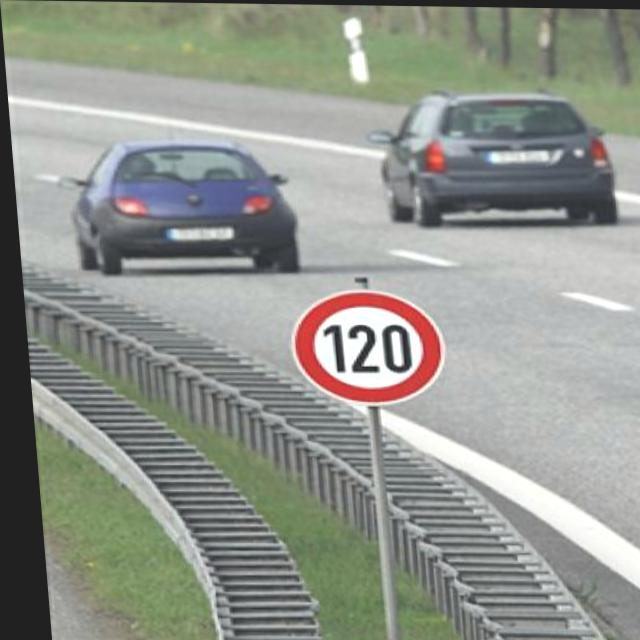limit120: (275, 275, 448, 409)
